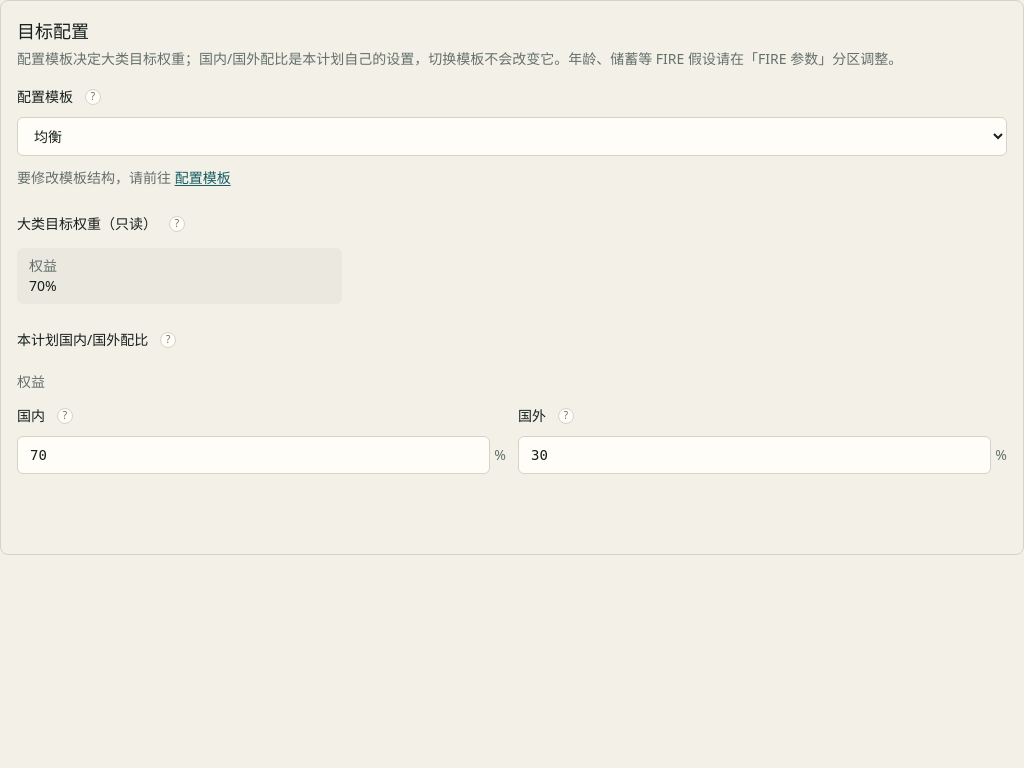
Test: PlanTargetsContent › shows save bar only after scenario selection changes
The width and height of the screenshot is (1024, 768).
Expected: the text "有未保存的修改" is not shown
Select "保守" in the dropdown with test id "plan-targets-scenario-select" at (512, 136), box [17,117,1007,156]
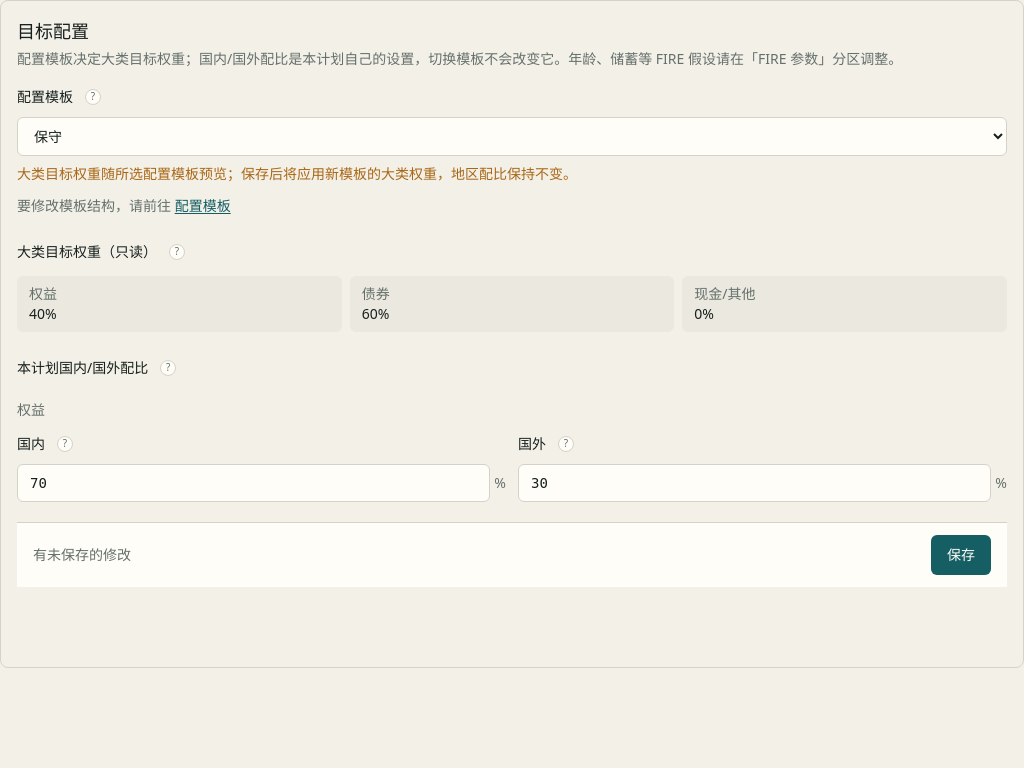
Expected: the text "有未保存的修改" is shown, [33,545,131,565]
Expected: the text with test id "plan-targets-preview-note" shows "大类目标权重随所选配置模板预览", [17,164,577,183]
